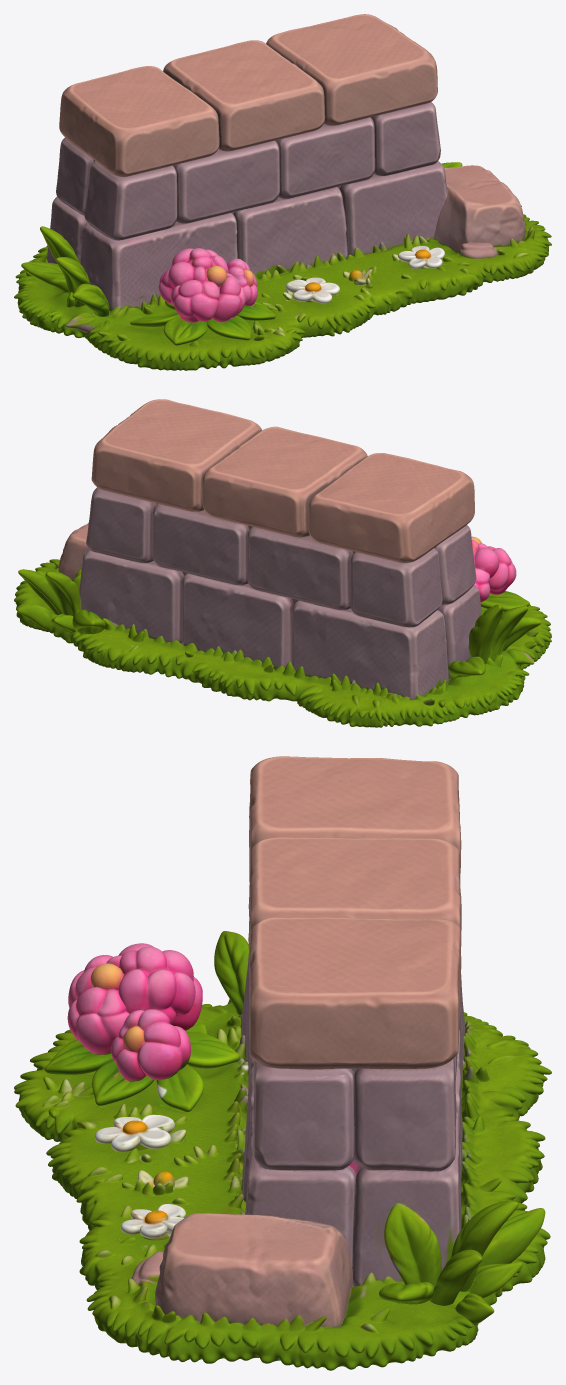
Rendered from stone-retaining-wall-01.glb.
The picture shows the model from 3 angles, top to bottom: view 1: azimuth 30°, elevation 25°; view 2: azimuth 150°, elevation 25°; view 3: azimuth 270°, elevation 25°; orthographic projection. The views are drawn at different scales.
Bounding box in the file's own units: 1.9 × 0.7287 × 1.18.
Materials: 1 (1 with a texture image).
